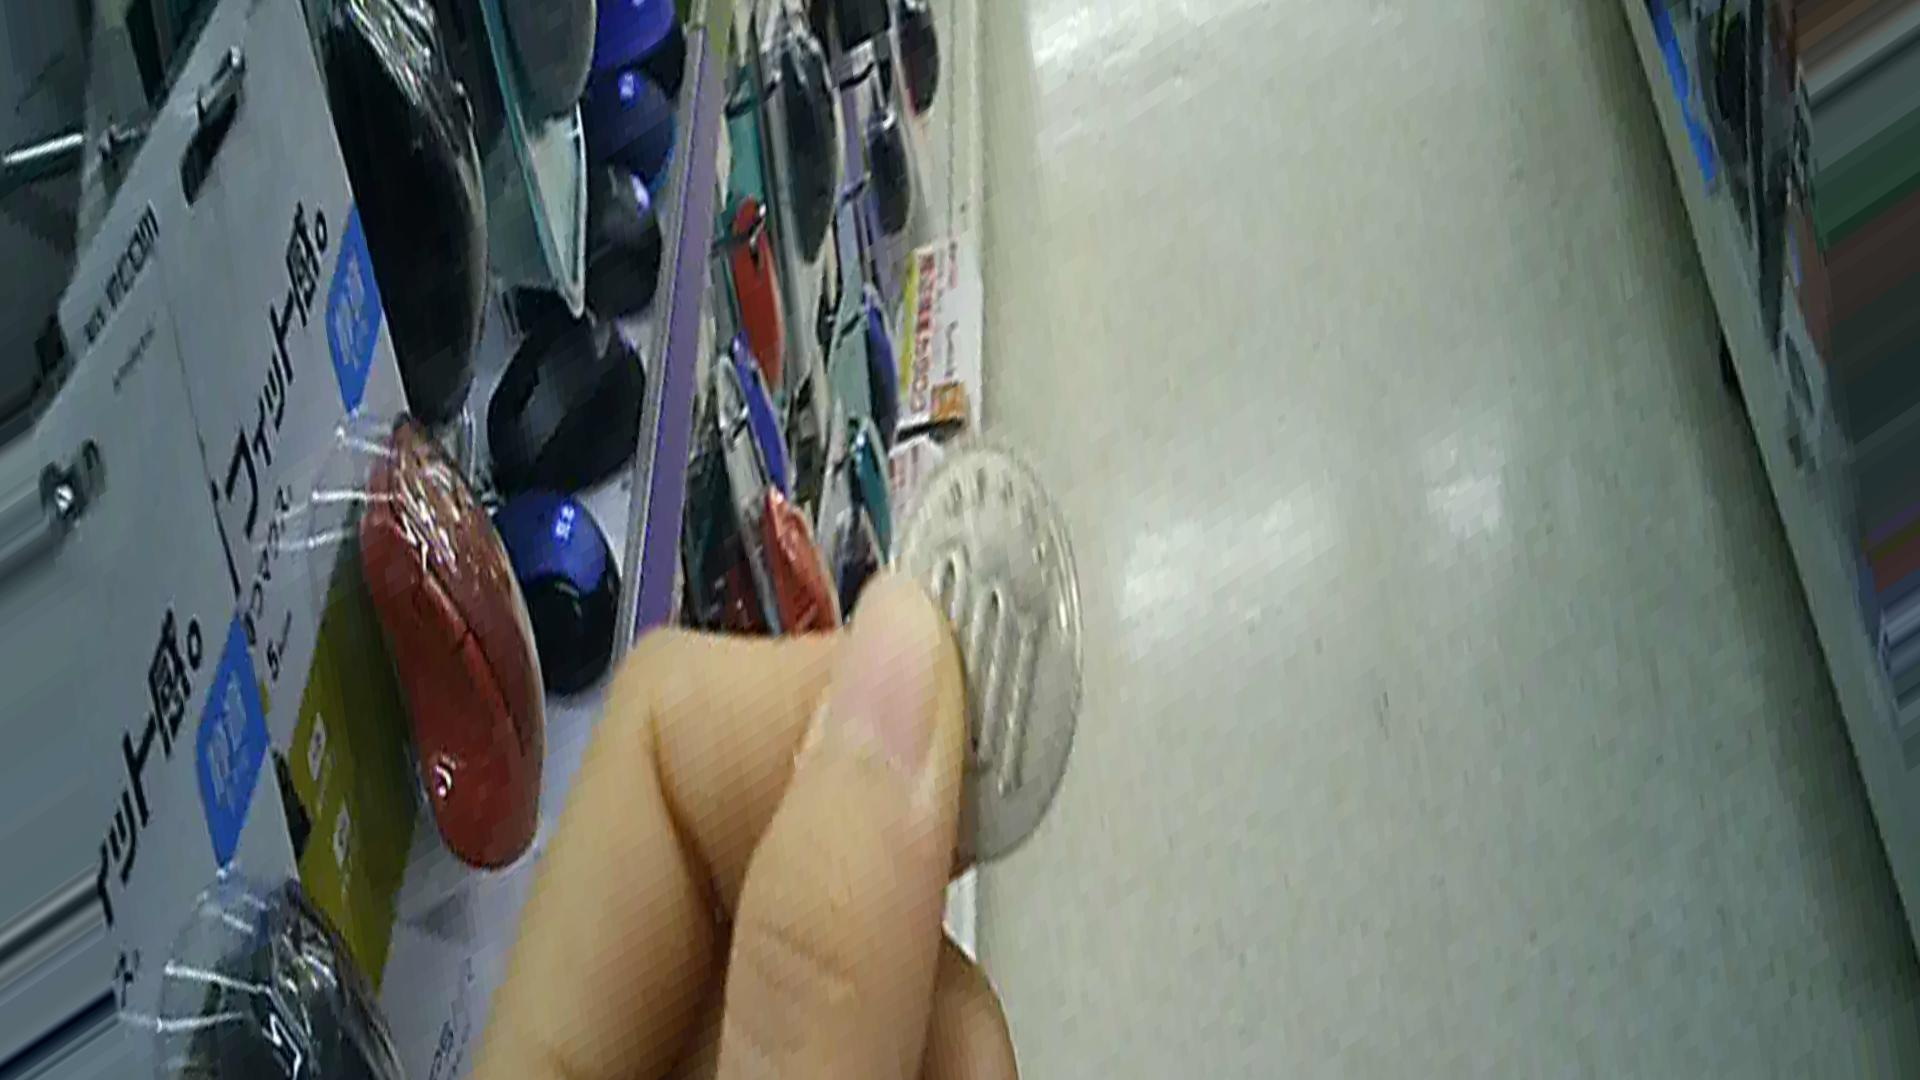100 Yen: (870, 464, 1104, 872)
